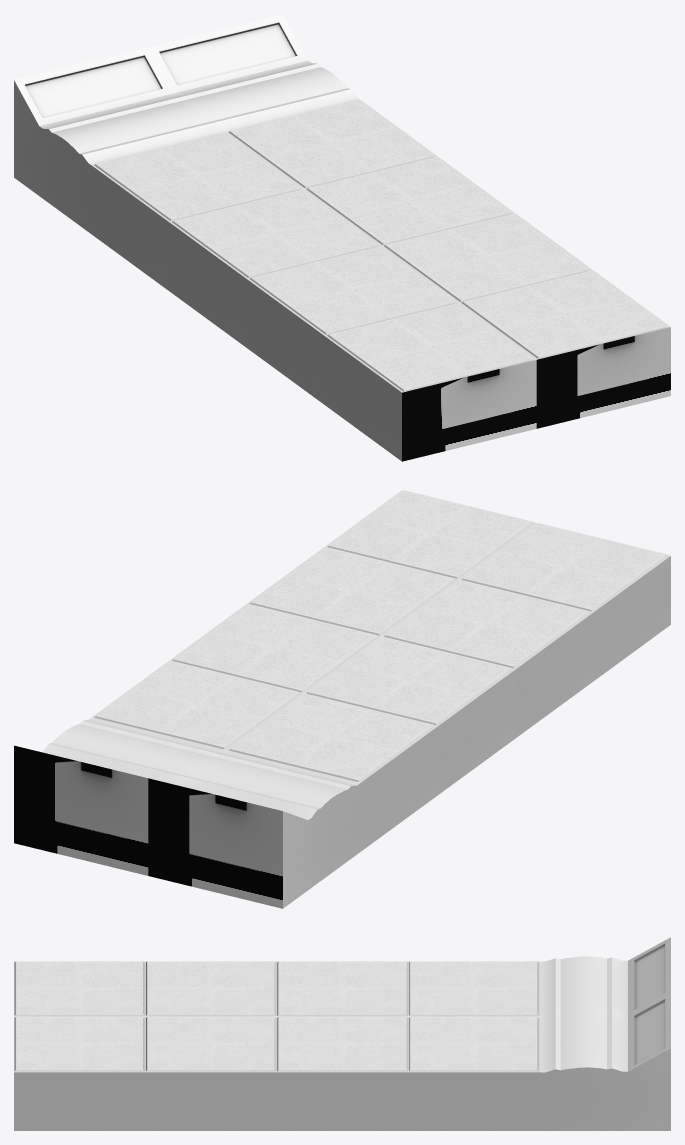
Rendered from WallDoorway_6.fbx.
3 views of the same model, one above another, from view 1: azimuth 30°, elevation 25°; view 2: azimuth 150°, elevation 25°; view 3: azimuth 270°, elevation 25° (orthographic). The views are drawn at different scales.
Visible parts, largest first — view 1: WallDoorway_6; view 2: WallDoorway_6; view 3: WallDoorway_6.
Part boxes in pixels (x1=…): WallDoorway_6: x1=14, y1=14, x2=670, y2=461; WallDoorway_6: x1=14, y1=490, x2=670, y2=908; WallDoorway_6: x1=14, y1=937, x2=670, y2=1130.
Bounding box in the file's own units: 2 × 0.6947 × 5.
